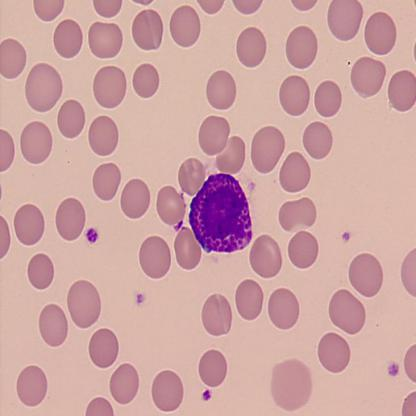Basophil: (186, 171, 254, 255)
